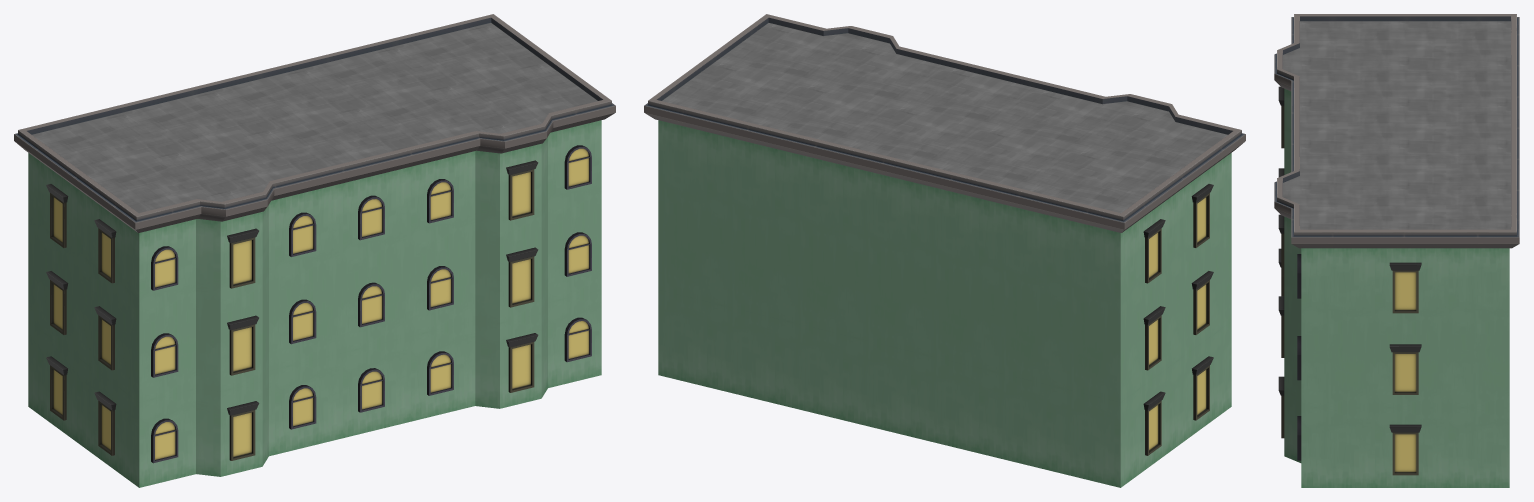
File: NBR_building_a.FBX
The picture shows the model from 3 angles, left to right: view 1: azimuth 30°, elevation 25°; view 2: azimuth 150°, elevation 25°; view 3: azimuth 270°, elevation 25°; orthographic projection. The views are drawn at different scales.
Parts seen in each view (by area): view 1: building_a; view 2: building_a; view 3: building_a.
Part boxes in pixels (x1,y1,x2,y2): building_a: (14,14,615,487); building_a: (644,14,1245,487); building_a: (1274,14,1519,487).
Bounding box in the file's own units: 2124 × 1164 × 999.
4 materials, 4 textured.
